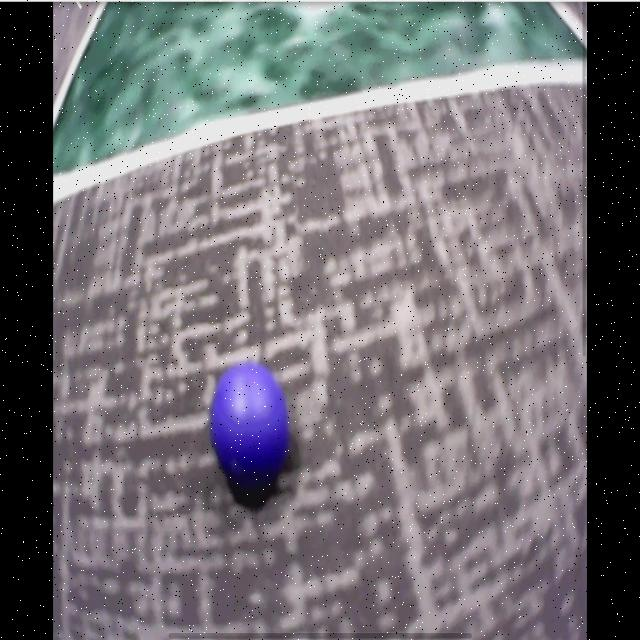ball: (213, 368, 288, 483)
